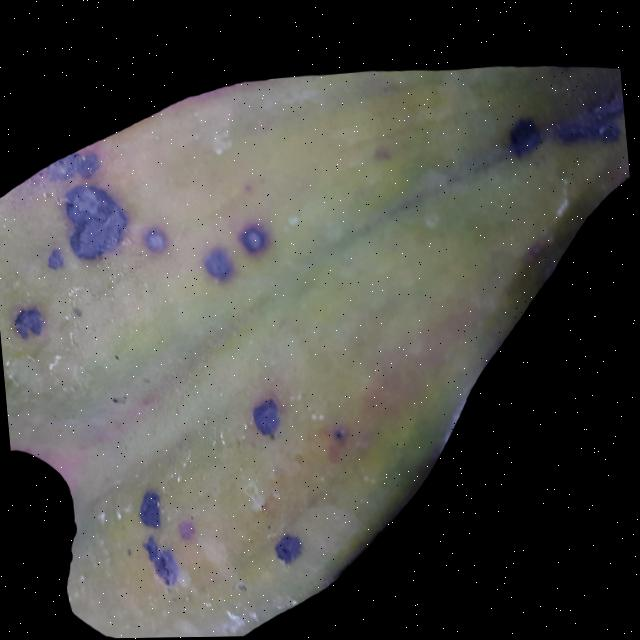mite: (0, 136, 374, 620), (0, 163, 281, 345), (196, 217, 274, 285), (2, 294, 53, 349), (126, 481, 173, 537), (504, 115, 544, 160), (200, 245, 235, 283), (10, 304, 46, 340), (235, 221, 270, 256), (135, 489, 163, 529), (70, 148, 100, 179), (140, 225, 169, 254), (43, 246, 65, 270), (330, 426, 346, 442), (233, 579, 248, 593)
sunburn: (246, 393, 285, 442)
